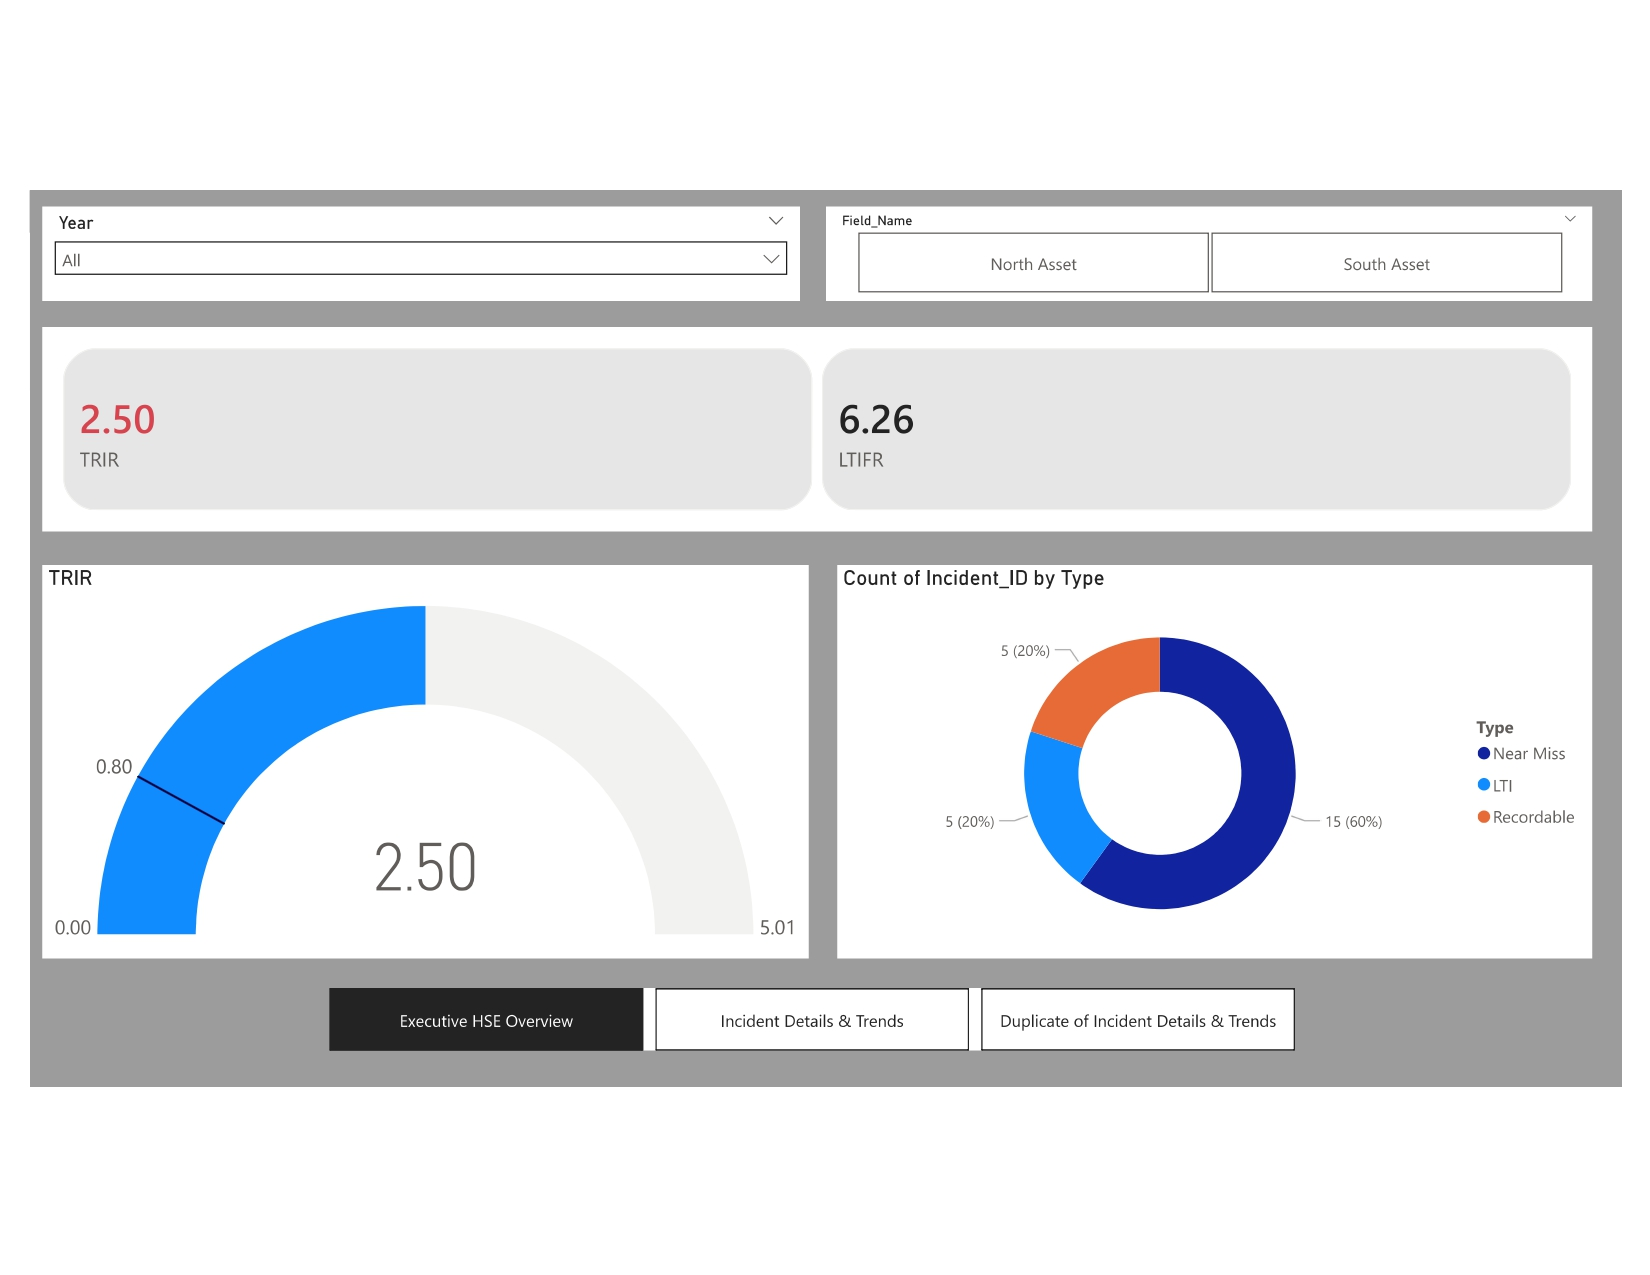

The page's visual inventory and layout, read from the dashboard file:
{"tool":"powerbi","page":{"name":"Executive HSE Overview","canvas":[1280,720],"ordinal":0},"visuals":[{"type":"cardVisual","fields":{"Data":["Dim_Date.TRIR","Dim_Date.LTIFR"]},"box":[10,110,1245.7,164.3],"z":0},{"type":"donutChart","fields":{"Category":["Fact_Incidents.Type"],"Y":["CountNonNull(Fact_Incidents.Incident_ID)"]},"box":[648.6,301.4,607.1,315.7],"z":1000},{"type":"gauge","fields":{"Y":["Dim_Date.TRIR"]},"box":[10,301.4,615.7,315.7],"z":2000},{"type":"slicer","fields":{"Values":["Dim_Date.Date.Variation.Date Hierarchy.Year"]},"box":[10,12.9,608.6,75.7],"z":3000},{"type":"slicer","fields":{"Values":["Fact_Incidents.Field_Name"]},"box":[640,12.9,615.7,75.7],"z":4000},{"type":"pageNavigator","box":[241.4,641.4,775.7,50],"z":5000}]}

Visuals, with their boxes in screenshot pixels (x1, y1, x2, y2):
cardVisual - Dim_Date.TRIR x Dim_Date.LTIFR: detection(30, 320, 1613, 529)
donutChart - Fact_Incidents.Type x CountNonNull(Fact_Incidents.Incident_ID): detection(842, 564, 1613, 965)
gauge - Dim_Date.TRIR: detection(30, 564, 813, 965)
slicer - Dim_Date.Date.Variation.Date Hierarchy.Year: detection(30, 197, 804, 293)
slicer - Fact_Incidents.Field_Name: detection(831, 197, 1613, 293)
pageNavigator: detection(324, 996, 1310, 1059)
